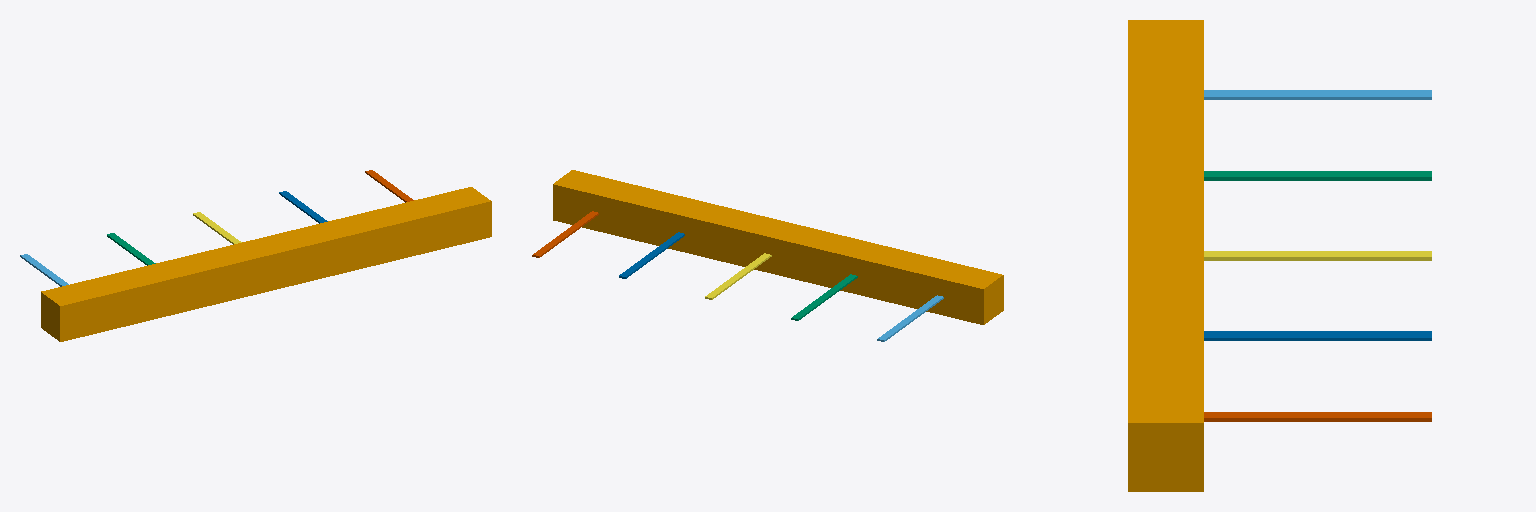
The robot description file, URDF, robot "bench_1s_5m":
<?xml version='1.0' encoding='utf-8'?>
<robot name="bench_1s_5m">
  <link name="extrusion_base">
    <inertial xyz="0 0 0" rpy="0 0 0">
      <mass value="2.16" />
      <inertia ixx="0.000576" iyy="0.045288" izz="0.045288" ixy="0" ixz="0" iyz="0" />
    </inertial>
    <visual>
      <origin xyz="0 0 0" rpy="0 0 0" />
      <geometry>
        <box size="0.5 0.04 0.04" />
      </geometry>
    </visual>
    <collision>
      <origin xyz="0 0 0" rpy="0 0 0" />
      <geometry>
        <box size="0.5 0.04 0.04" />
      </geometry>
    </collision>
  </link>
  <link name="bench_j1_hand">
    <inertial xyz="0 0.06 0" rpy="0 0 0">
      <mass value="0.02" />
      <inertia ixx="2.400666667e-05" iyy="1.133333333e-07" izz="2.410666667e-05" ixy="0" ixz="0" iyz="0" />
    </inertial>
    <visual>
      <origin xyz="0 0.06 0" rpy="0 0 0" />
      <geometry>
        <box size="0.008 0.12 0.002" />
      </geometry>
    </visual>
    <collision>
      <origin xyz="0 0.06 0" rpy="0 0 0" />
      <geometry>
        <box size="0.008 0.12 0.002" />
      </geometry>
    </collision>
  </link>
  <link name="bench_j2_hand">
    <inertial xyz="0 0.06 0" rpy="0 0 0">
      <mass value="0.02" />
      <inertia ixx="2.400666667e-05" iyy="1.133333333e-07" izz="2.410666667e-05" ixy="0" ixz="0" iyz="0" />
    </inertial>
    <visual>
      <origin xyz="0 0.06 0" rpy="0 0 0" />
      <geometry>
        <box size="0.008 0.12 0.002" />
      </geometry>
    </visual>
    <collision>
      <origin xyz="0 0.06 0" rpy="0 0 0" />
      <geometry>
        <box size="0.008 0.12 0.002" />
      </geometry>
    </collision>
  </link>
  <link name="bench_j3_hand">
    <inertial xyz="0 0.06 0" rpy="0 0 0">
      <mass value="0.02" />
      <inertia ixx="2.400666667e-05" iyy="1.133333333e-07" izz="2.410666667e-05" ixy="0" ixz="0" iyz="0" />
    </inertial>
    <visual>
      <origin xyz="0 0.06 0" rpy="0 0 0" />
      <geometry>
        <box size="0.008 0.12 0.002" />
      </geometry>
    </visual>
    <collision>
      <origin xyz="0 0.06 0" rpy="0 0 0" />
      <geometry>
        <box size="0.008 0.12 0.002" />
      </geometry>
    </collision>
  </link>
  <link name="bench_j4_hand">
    <inertial xyz="0 0.06 0" rpy="0 0 0">
      <mass value="0.02" />
      <inertia ixx="2.400666667e-05" iyy="1.133333333e-07" izz="2.410666667e-05" ixy="0" ixz="0" iyz="0" />
    </inertial>
    <visual>
      <origin xyz="0 0.06 0" rpy="0 0 0" />
      <geometry>
        <box size="0.008 0.12 0.002" />
      </geometry>
    </visual>
    <collision>
      <origin xyz="0 0.06 0" rpy="0 0 0" />
      <geometry>
        <box size="0.008 0.12 0.002" />
      </geometry>
    </collision>
  </link>
  <link name="bench_j5_hand">
    <inertial xyz="0 0.06 0" rpy="0 0 0">
      <mass value="0.02" />
      <inertia ixx="2.400666667e-05" iyy="1.133333333e-07" izz="2.410666667e-05" ixy="0" ixz="0" iyz="0" />
    </inertial>
    <visual>
      <origin xyz="0 0.06 0" rpy="0 0 0" />
      <geometry>
        <box size="0.008 0.12 0.002" />
      </geometry>
    </visual>
    <collision>
      <origin xyz="0 0.06 0" rpy="0 0 0" />
      <geometry>
        <box size="0.008 0.12 0.002" />
      </geometry>
    </collision>
  </link>
  <joint name="bench_j1" type="revolute">
    <origin xyz="-0.2 0.02 0" rpy="0 0 0" />
    <parent link="extrusion_base" />
    <child link="bench_j1_hand" />
    <axis xyz="0 0 1" />
    <limit lower="-0.79" upper="0.79" effort="3" velocity="10" />
    <dynamics damping="0" friction="0" />
  </joint>
  <joint name="bench_j2" type="revolute">
    <origin xyz="-0.1 0.02 0" rpy="0 0 0" />
    <parent link="extrusion_base" />
    <child link="bench_j2_hand" />
    <axis xyz="0 0 1" />
    <limit lower="-1.05" upper="1.05" effort="3" velocity="10" />
    <dynamics damping="0" friction="0" />
  </joint>
  <joint name="bench_j3" type="revolute">
    <origin xyz="0 0.02 0" rpy="0 0 0" />
    <parent link="extrusion_base" />
    <child link="bench_j3_hand" />
    <axis xyz="0 0 1" />
    <limit lower="-1.31" upper="1.31" effort="3" velocity="10" />
    <dynamics damping="0" friction="0" />
  </joint>
  <joint name="bench_j4" type="revolute">
    <origin xyz="0.1 0.02 0" rpy="0 0 0" />
    <parent link="extrusion_base" />
    <child link="bench_j4_hand" />
    <axis xyz="0 0 1" />
    <limit lower="-1.31" upper="1.31" effort="3" velocity="10" />
    <dynamics damping="0" friction="0" />
  </joint>
  <joint name="bench_j5" type="revolute">
    <origin xyz="0.2 0.02 0" rpy="0 0 0" />
    <parent link="extrusion_base" />
    <child link="bench_j5_hand" />
    <axis xyz="0 0 1" />
    <limit lower="-1.31" upper="1.31" effort="3" velocity="10" />
    <dynamics damping="0" friction="0" />
  </joint>
  <ros2_control name="HumanoidActuatorSystem" type="system">
    <hardware>
      <plugin>humanoid_actuator_system/HumanoidActuatorSystem</plugin>
      <param name="safety_manifest_path">config/bench_1s_5m/safety_manifest.yaml</param>
      <param name="safety_manifest_package">humanoid_bringup</param>
    </hardware>
    <joint name="bench_j1">
      <command_interface name="position" />
      <command_interface name="velocity" />
      <command_interface name="effort" />
      <command_interface name="stiffness" />
      <command_interface name="damping" />
      <state_interface name="position" />
      <state_interface name="velocity" />
      <state_interface name="effort" />
    </joint>
    <joint name="bench_j2">
      <command_interface name="position" />
      <command_interface name="velocity" />
      <command_interface name="effort" />
      <command_interface name="stiffness" />
      <command_interface name="damping" />
      <state_interface name="position" />
      <state_interface name="velocity" />
      <state_interface name="effort" />
    </joint>
    <joint name="bench_j3">
      <command_interface name="position" />
      <command_interface name="velocity" />
      <command_interface name="effort" />
      <command_interface name="stiffness" />
      <command_interface name="damping" />
      <state_interface name="position" />
      <state_interface name="velocity" />
      <state_interface name="effort" />
    </joint>
    <joint name="bench_j4">
      <command_interface name="position" />
      <command_interface name="velocity" />
      <command_interface name="effort" />
      <command_interface name="stiffness" />
      <command_interface name="damping" />
      <state_interface name="position" />
      <state_interface name="velocity" />
      <state_interface name="effort" />
    </joint>
    <joint name="bench_j5">
      <command_interface name="position" />
      <command_interface name="velocity" />
      <command_interface name="effort" />
      <command_interface name="stiffness" />
      <command_interface name="damping" />
      <state_interface name="position" />
      <state_interface name="velocity" />
      <state_interface name="effort" />
    </joint>
  </ros2_control>
</robot>

--- What the picture shows (computed from the rendered views, not written in the file) ---
3 views of the same robot in one strip: view 1: azimuth 30°, elevation 25°; view 2: azimuth 150°, elevation 25°; view 3: azimuth 270°, elevation 25° (orthographic).
Robot: bench_1s_5m — 6 links, 5 joints (5 revolute); root link extrusion_base; default pose: every joint at zero.
Visible links, largest first — view 1: extrusion_base; view 2: extrusion_base; view 3: extrusion_base, bench_j1_hand, bench_j2_hand, bench_j3_hand, bench_j4_hand, bench_j5_hand.
Link boxes in pixels (box(x1,y1,x2,y2)): extrusion_base: box(41, 187, 491, 341); extrusion_base: box(553, 170, 1003, 324); extrusion_base: box(1128, 20, 1203, 491); bench_j1_hand: box(1204, 90, 1431, 99); bench_j2_hand: box(1204, 171, 1431, 180); bench_j3_hand: box(1204, 251, 1431, 260); bench_j4_hand: box(1204, 331, 1431, 340); bench_j5_hand: box(1204, 412, 1431, 421).
Size in the robot's own frame: 0.5 by 0.16 by 0.04 metres.
Geometry: primitives only (box / cylinder / sphere), no mesh files.
